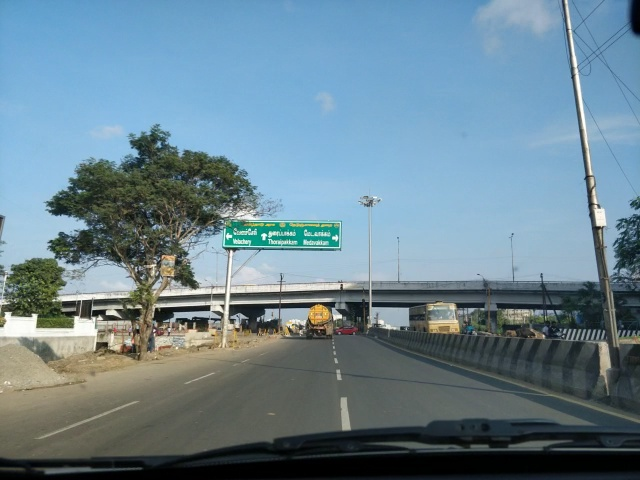bus: (408, 306, 460, 332)
car: (335, 323, 359, 338)
motorbike: (542, 324, 572, 338), (465, 321, 480, 335)
truck: (308, 306, 335, 340)
